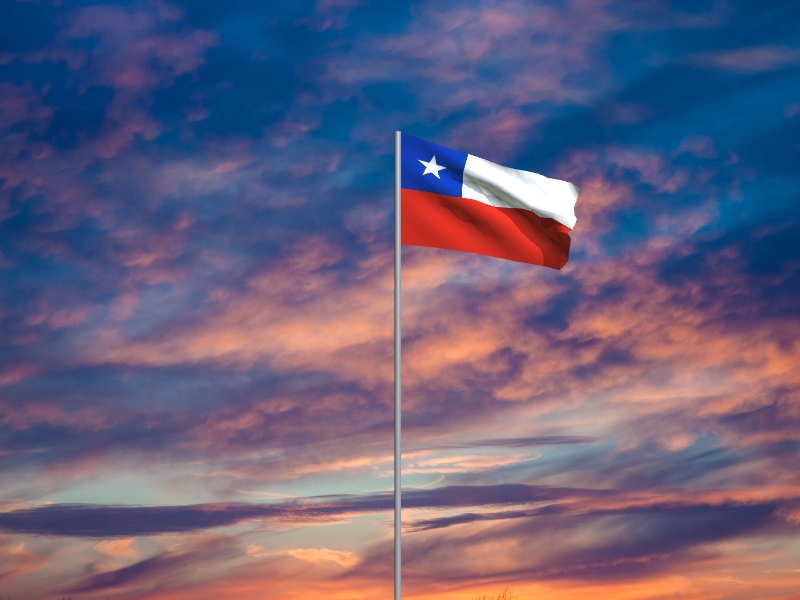cl: (402, 133, 581, 272)
